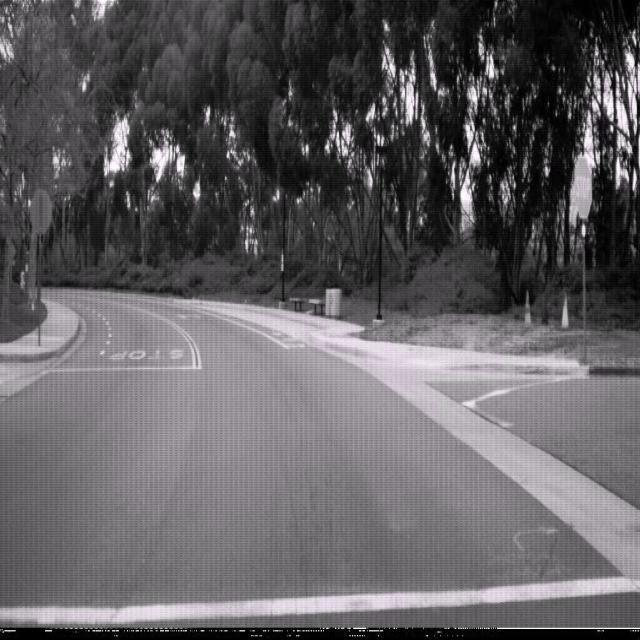stop: (574, 154, 592, 220)
